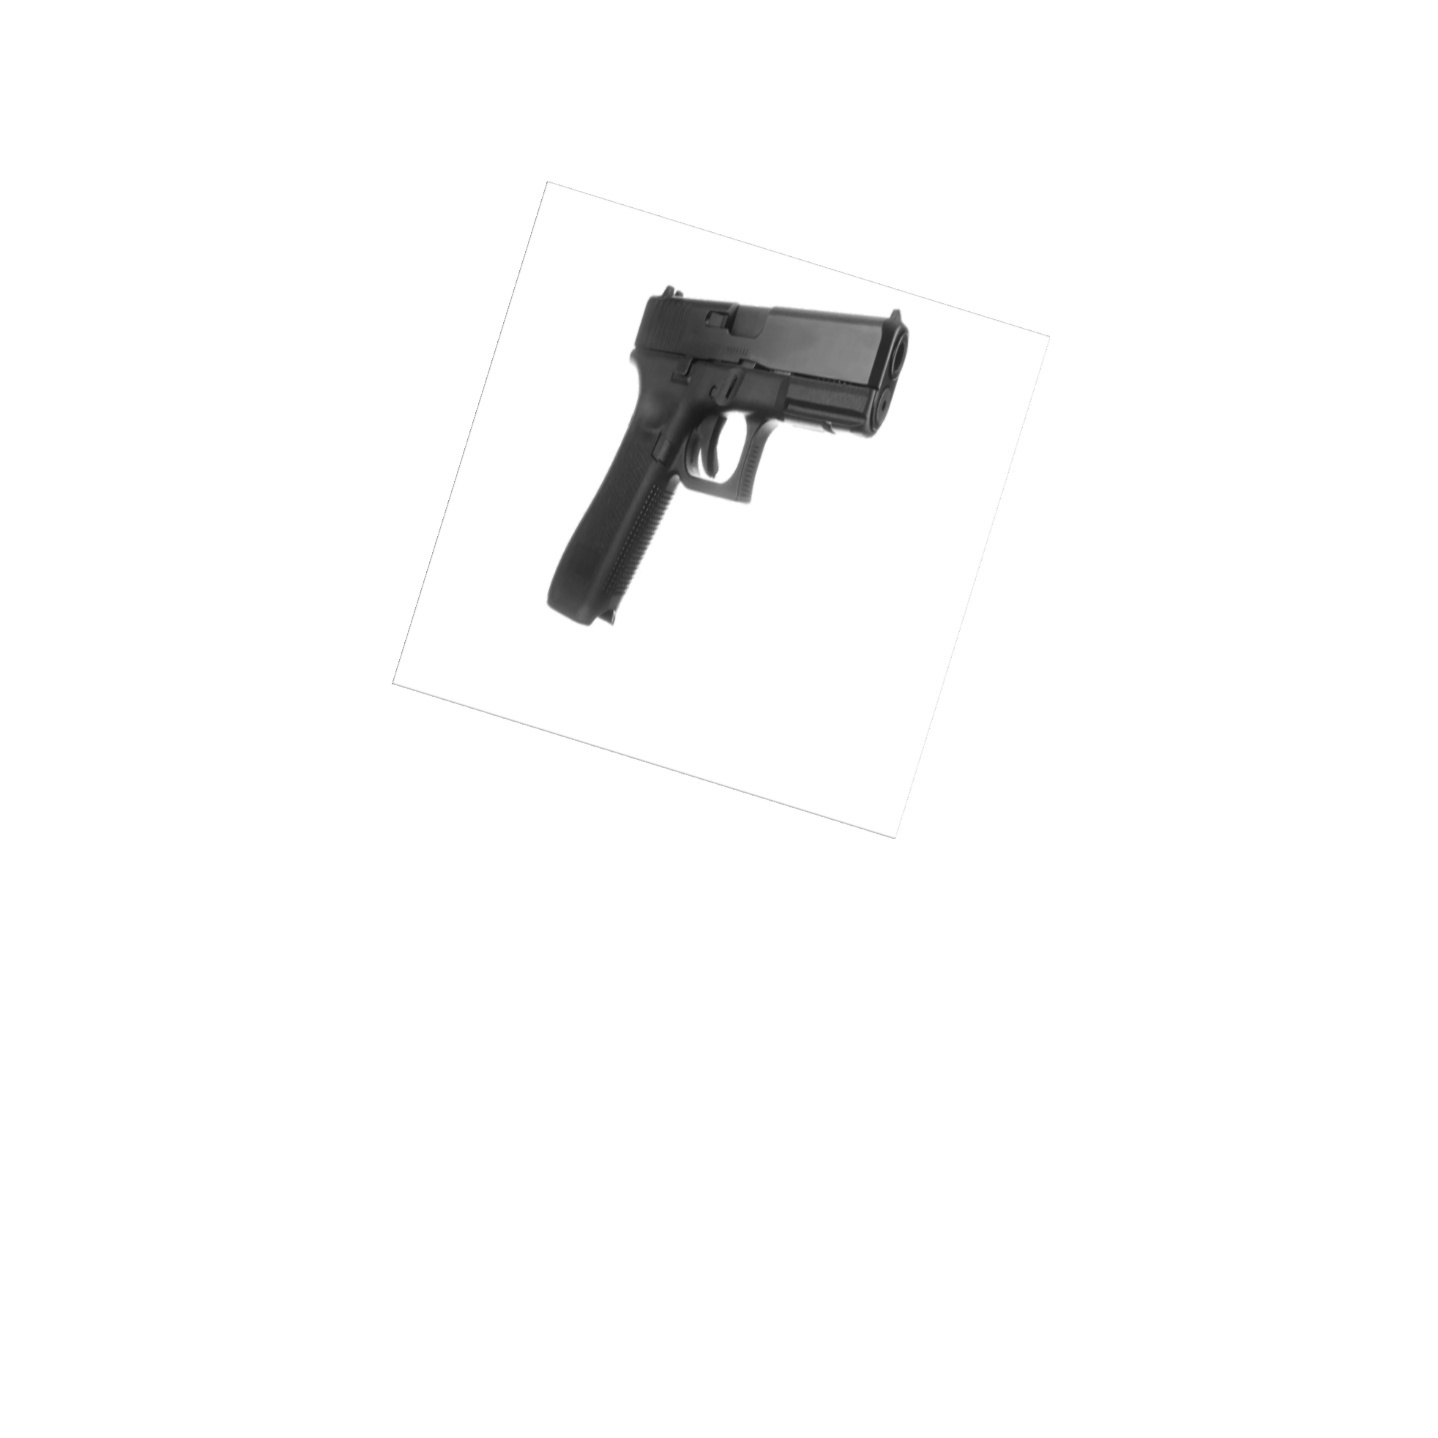gun: (539, 278, 911, 632)
